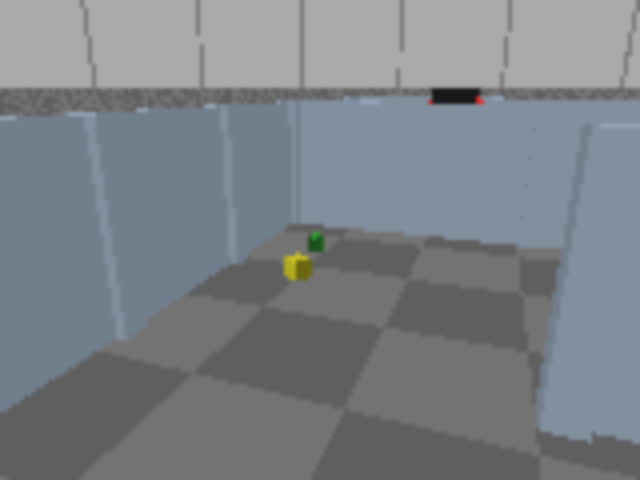puck: (285, 253, 311, 282), (308, 233, 323, 252)
